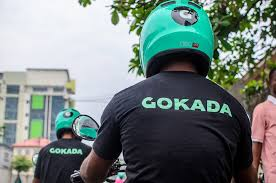helmet: (140, 1, 213, 81)
